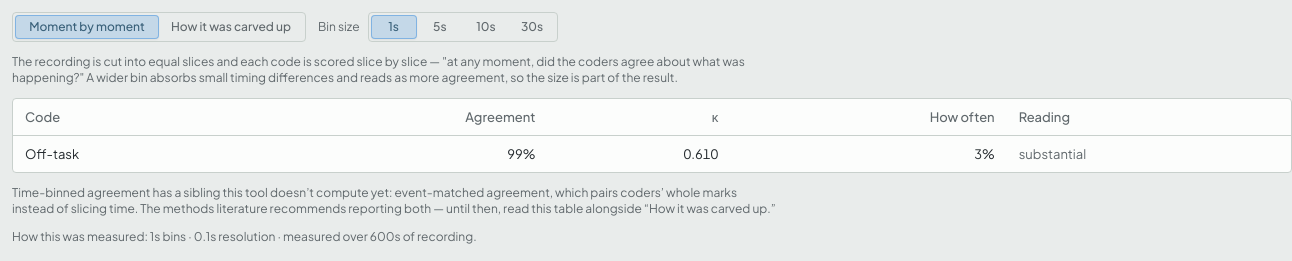
Test case: #963 Tier 3 — a failed measurement says so, per method › the OTHER method has its OWN failure sentence
Expected: the column heading "Off-task" is shown, [13,136,255,172]
Click the tab "How it was carved up" at [231, 27], box [159,15,303,39]
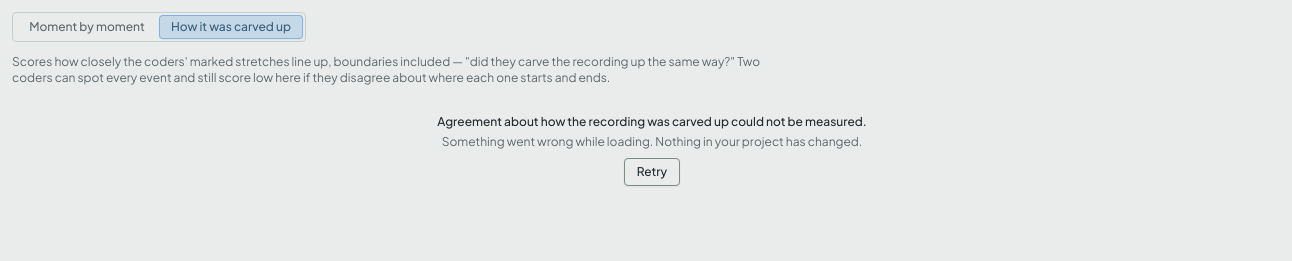
Expected: the text "Agreement about how the recording was carved up could not be measured." is shown, [437,114,867,130]
